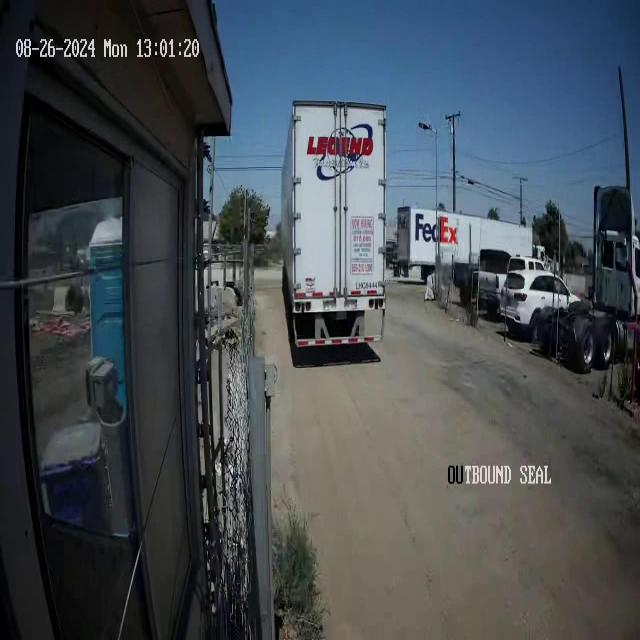CONTAINER: (280, 99, 388, 316)
